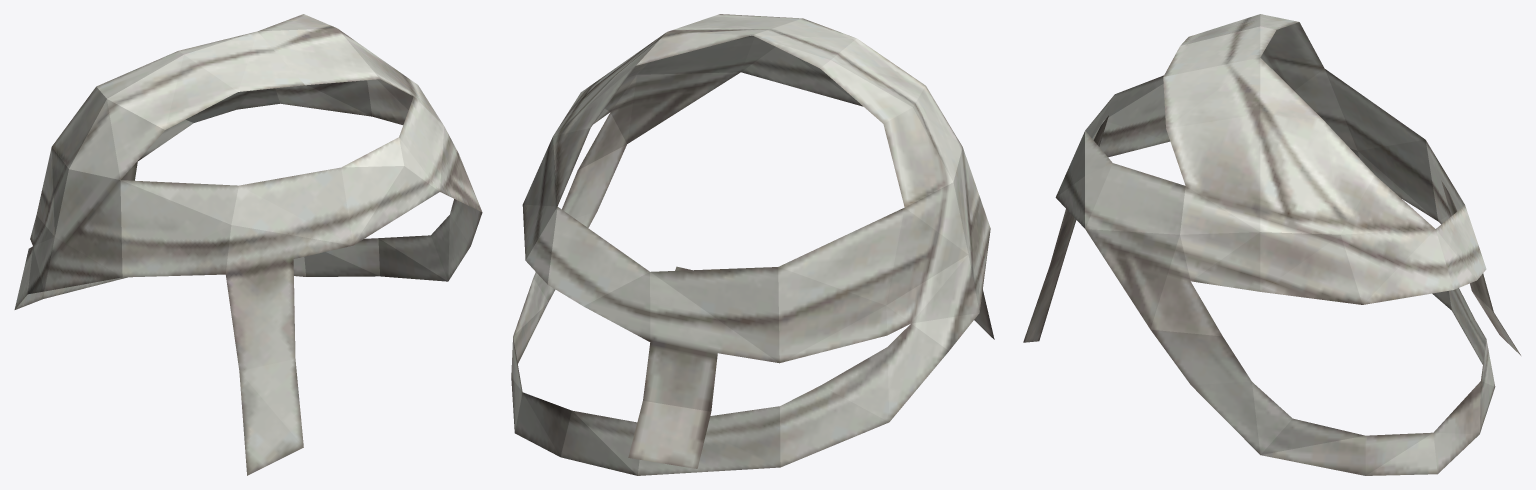
File: Penguin_mummyHead.obj
The picture shows the model from 3 angles, left to right: view 1: azimuth 30°, elevation 25°; view 2: azimuth 150°, elevation 25°; view 3: azimuth 270°, elevation 25°; orthographic projection. The views are drawn at different scales.
Parts seen in each view (by area): view 1: Penguin_mummyHead_tri; view 2: Penguin_mummyHead_tri; view 3: Penguin_mummyHead_tri.
Part boxes in pixels (x1,y1,x2,y2): Penguin_mummyHead_tri: (14,14,482,475); Penguin_mummyHead_tri: (511,14,994,475); Penguin_mummyHead_tri: (1023,14,1520,475).
Bounding box in the file's own units: 0.3401 × 0.2755 × 0.3566.
Materials: 1 (1 with a texture image).
